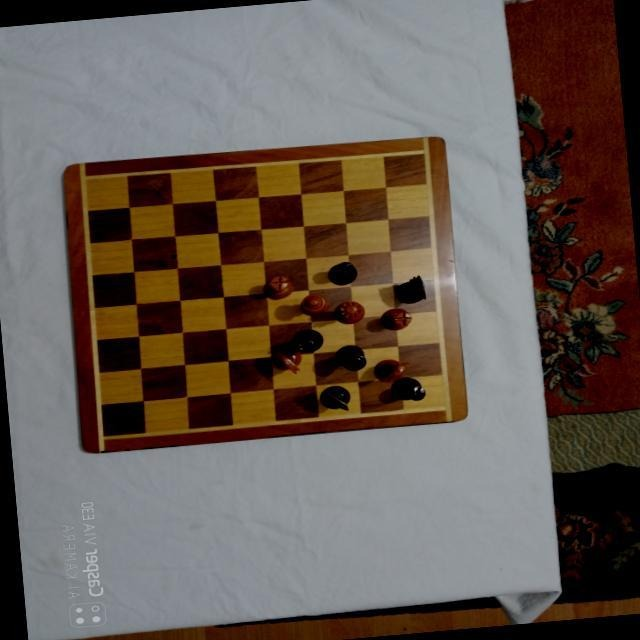black-king: (333, 343, 367, 372)
black-knight: (394, 274, 426, 305), (317, 383, 351, 412)
black-queen: (290, 327, 324, 353)
black-rook: (390, 374, 426, 403), (326, 260, 358, 286)
white-king: (298, 291, 331, 318)
white-knight: (270, 345, 302, 376), (371, 357, 409, 383)
white-queen: (331, 298, 365, 325)
white-rook: (378, 306, 412, 332), (262, 274, 294, 300)
